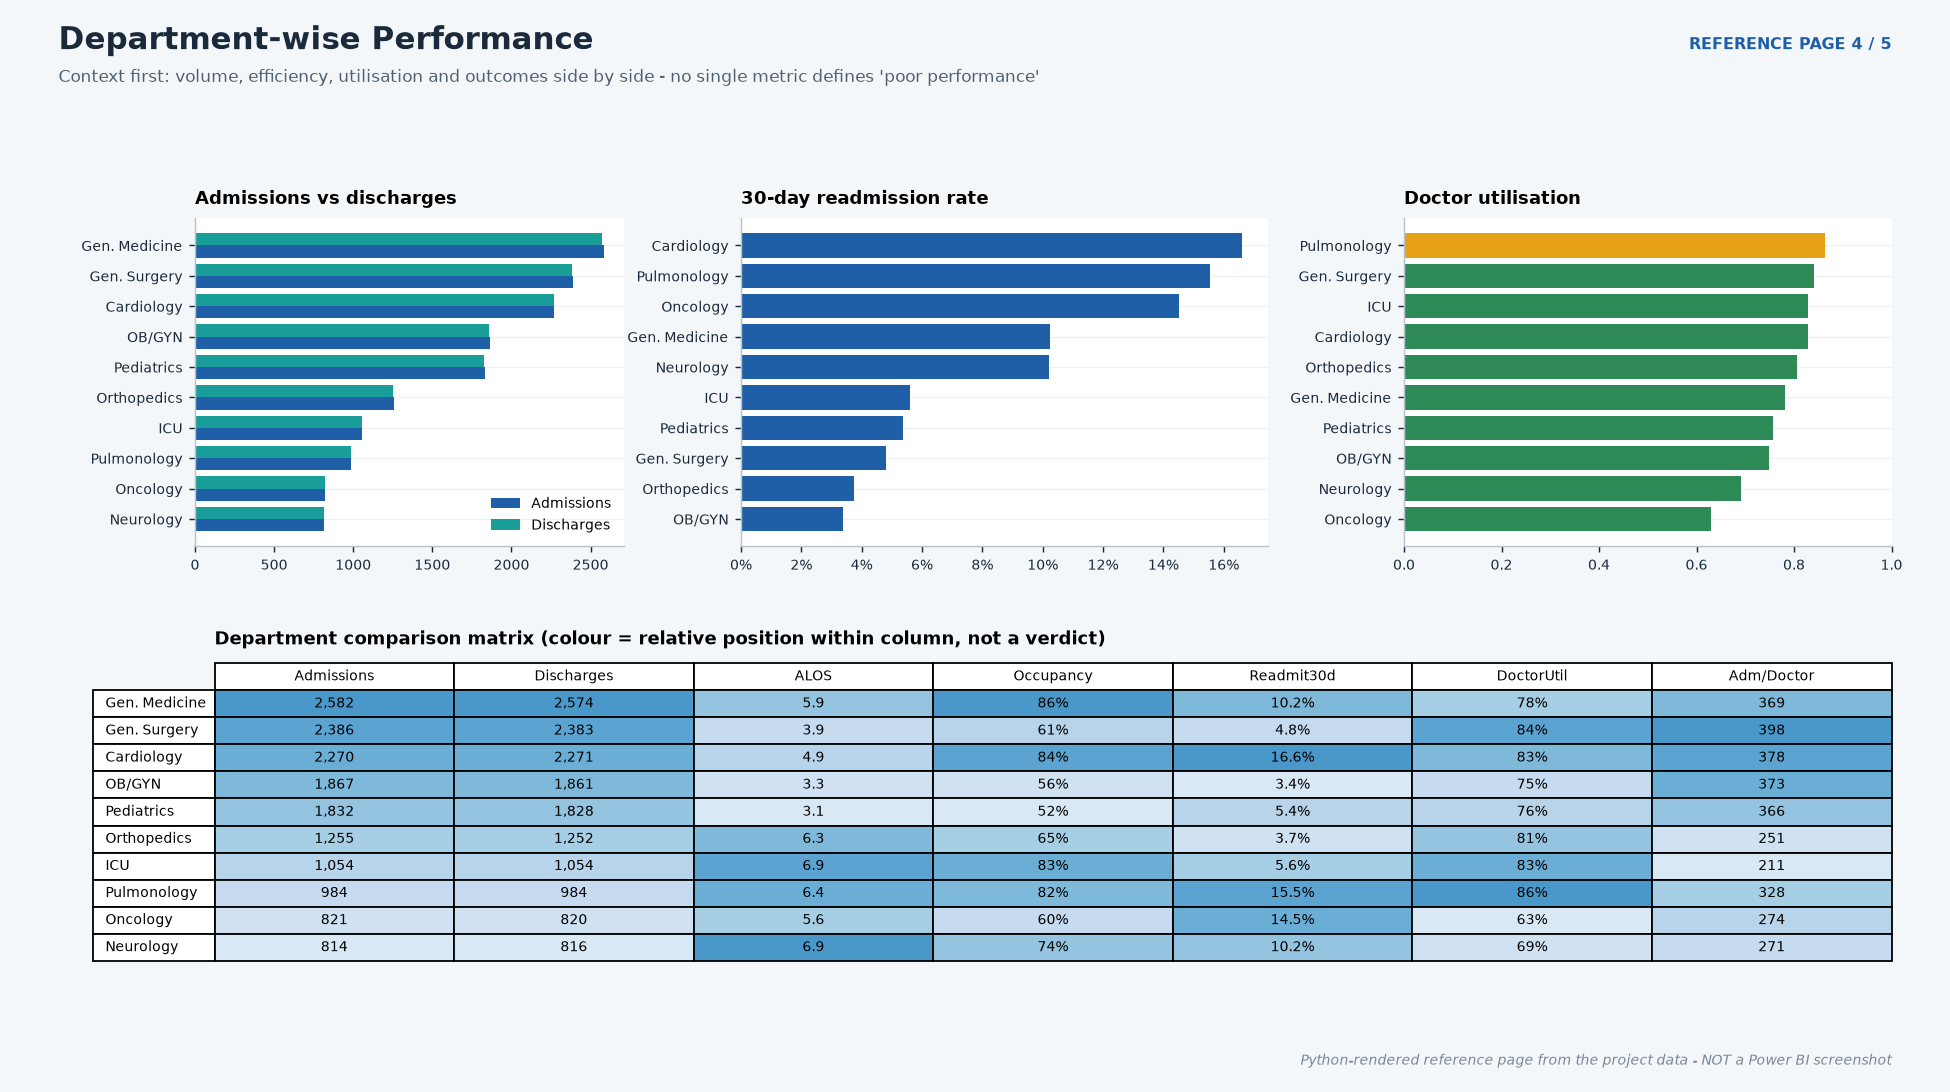

What the dashboard file says about the page in this screenshot:
{"tool":"powerbi","page":{"name":"Department Performance","canvas":[1280,720],"ordinal":3},"visuals":[{"type":"textbox","box":[16,2,900,44],"z":100},{"type":"textbox","box":[16,42,1240,30],"z":200},{"type":"textbox","box":[780,690,484,30],"z":300},{"type":"slicer","title":"Year","fields":{"Values":["DimDate.Year"]},"box":[16,70,220,58],"z":400},{"type":"slicer","title":"Admission type","fields":{"Values":["FactAdmissions.AdmissionType"]},"box":[248,70,220,58],"z":500},{"type":"tableEx","title":"Department comparison matrix","fields":{"Values":["DimDepartments.DepartmentName","_Measures.Total Admissions","_Measures.Total Discharges","_Measures.ALOS","_Measures.Bed Occupancy Rate","_Measures.30-Day Readmission Rate","_Measures.Eligible Discharges","_Measures.Doctor Utilization Rate","_Measures.Patients per Doctor","_Measures.Avg ED Wait (min)"]},"box":[16,126,1248,280],"z":600},{"type":"clusteredBarChart","title":"30-day readmission rate (not risk-adjusted)","fields":{"Category":["DimDepartments.DepartmentName"],"Y":["_Measures.30-Day Readmission Rate"]},"box":[16,414,408,268],"z":700},{"type":"clusteredBarChart","title":"Doctor utilisation (consultation / scheduled hours)","fields":{"Category":["DimDepartments.DepartmentName"],"Y":["_Measures.Doctor Utilization Rate"]},"box":[436,414,408,268],"z":800},{"type":"textbox","box":[856,414,408,268],"z":900}]}

Visuals, with their boxes in screenshot pixels (x1, y1, x2, y2), scaled from the page's 1280x720 canvas onto the 1950x1092 screenshot:
textbox: region(24, 3, 1395, 70)
textbox: region(24, 64, 1913, 109)
textbox: region(1188, 1046, 1926, 1091)
"Year" slicer: region(24, 106, 360, 194)
"Admission type" slicer: region(378, 106, 713, 194)
"Department comparison matrix" tableEx: region(24, 191, 1926, 616)
"30-day readmission rate (not risk-adjusted)" clusteredBarChart: region(24, 628, 646, 1034)
"Doctor utilisation (consultation / scheduled hours)" clusteredBarChart: region(664, 628, 1286, 1034)
textbox: region(1304, 628, 1926, 1034)
